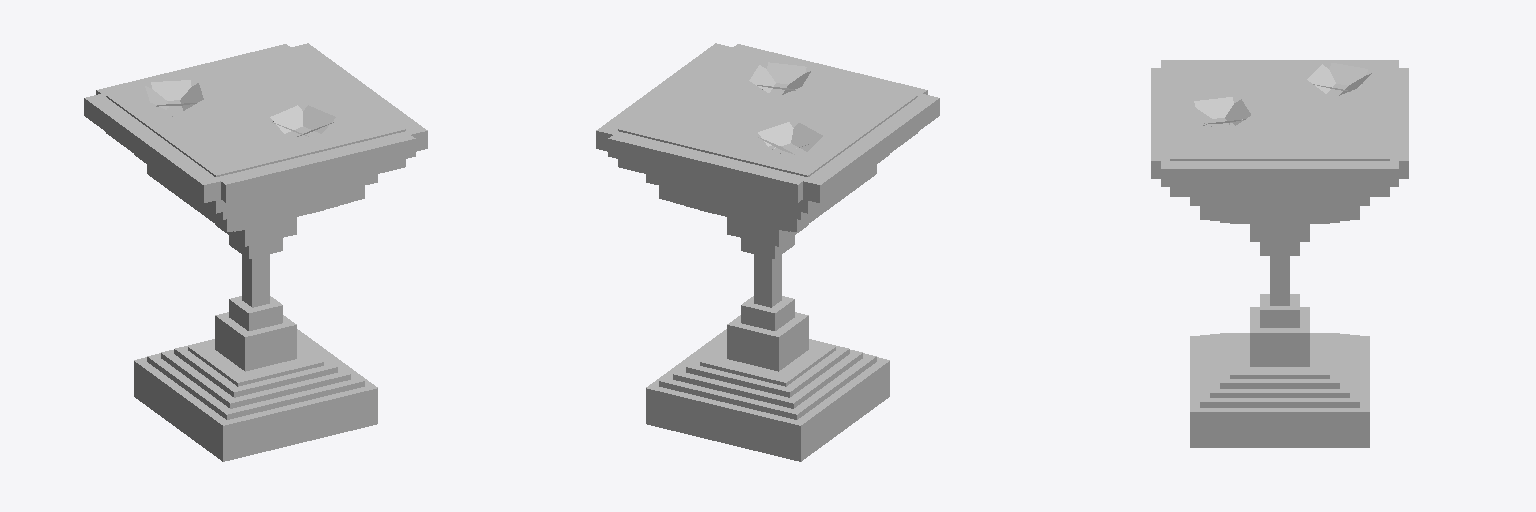
Rendered from 878_birdbath.obj.
3 views of the same model, side by side, from view 1: azimuth 30°, elevation 25°; view 2: azimuth 150°, elevation 25°; view 3: azimuth 270°, elevation 25° (orthographic).
Parts seen in each view (by area): view 1: water3, base1, bowl16, bowl14, base6, base2, bowl4, base3, base5, base4, bowl13, bowl9 (+9 smaller); view 2: water3, base1, bowl15, bowl14, base6, base2, bowl4, base3, base5, base4, bowl13, bowl10 (+9 smaller); view 3: water3, base1, bowl13, base2, base6, base5, base3, bowl4, base4, bowl16, bowl15, bowl11 (+8 smaller).
Part boxes in pixels (x1,y1,x2,y2): water3: (106,49,405,176); base1: (134,329,377,461); bowl16: (216,131,415,202); bowl14: (84,94,220,202); base6: (215,312,296,371); base2: (147,332,364,419); bowl4: (147,165,364,231); base3: (161,335,350,408); base5: (188,340,323,386); base4: (174,338,337,397); bowl13: (291,43,427,151); bowl9: (206,159,405,213); water3: (618,49,917,176); base1: (646,329,889,461); bowl15: (608,131,807,202); bowl14: (803,94,939,202); base6: (727,312,808,371); base2: (659,332,876,419); bowl4: (659,165,876,231); base3: (673,335,862,408); base5: (700,340,835,386); base4: (686,338,849,397); bowl13: (596,43,732,151); bowl10: (618,159,817,213); water3: (1170,66,1389,160); base1: (1190,336,1369,447); bowl13: (1161,161,1398,186); base2: (1200,335,1359,407); base6: (1250,307,1309,366); base5: (1230,333,1329,378); base3: (1210,334,1349,397); bowl4: (1200,206,1359,219); base4: (1220,333,1339,388); bowl16: (1151,68,1169,178); bowl15: (1390,68,1408,178); bowl11: (1180,187,1378,196).
Bounding box in the file's own units: 0.8125 × 1.07 × 0.8125.